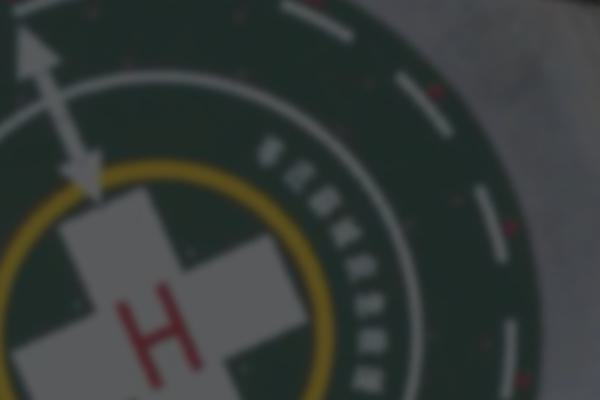Apron: (1, 155, 340, 398)
